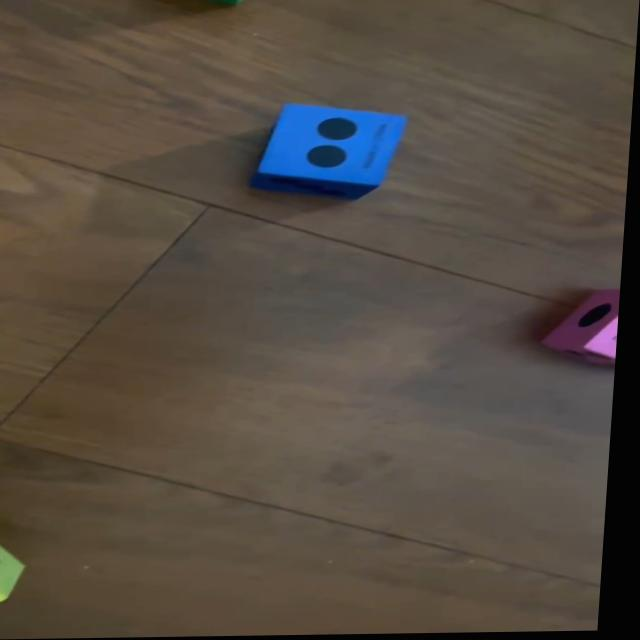blue_block: (256, 103, 412, 202)
